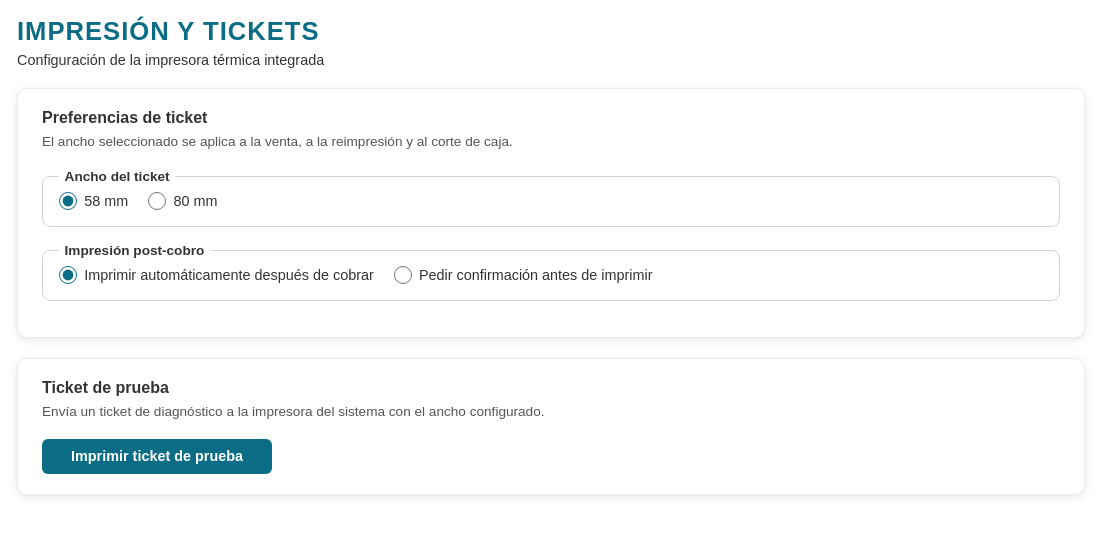
Test: SettingsPrinters › anuncia con role=alert cuando la impresión falla
Click the button "Imprimir ticket de prueba". click: [157, 456]
box: [42, 439, 272, 474]
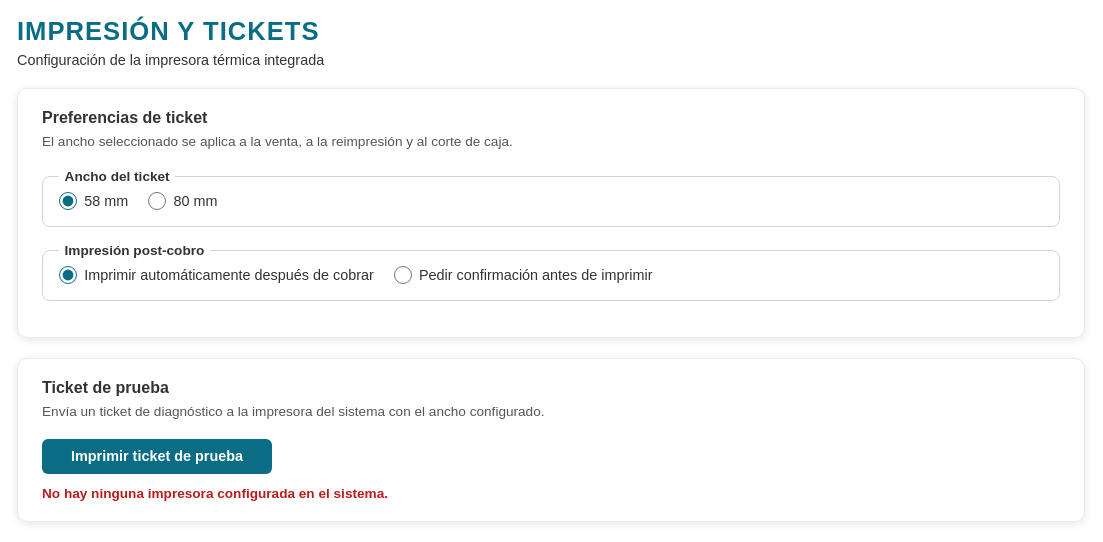
Expected: the message shows "No hay ninguna impresora configurada", [42, 486, 388, 501]
